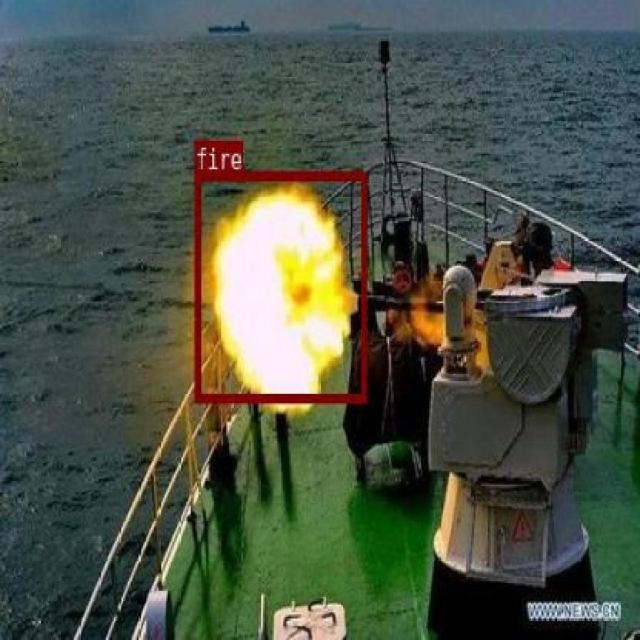Fire: (194, 170, 366, 401)
